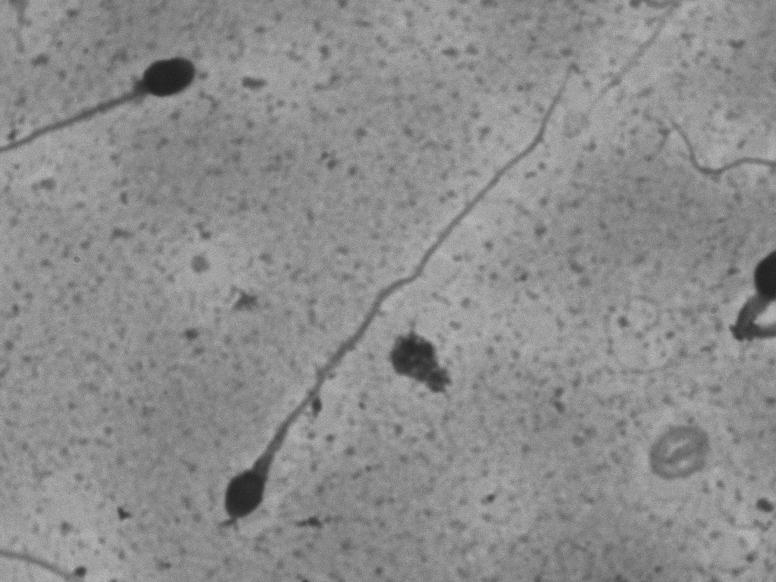Abnormal: (213, 49, 589, 533), (23, 17, 220, 171)
